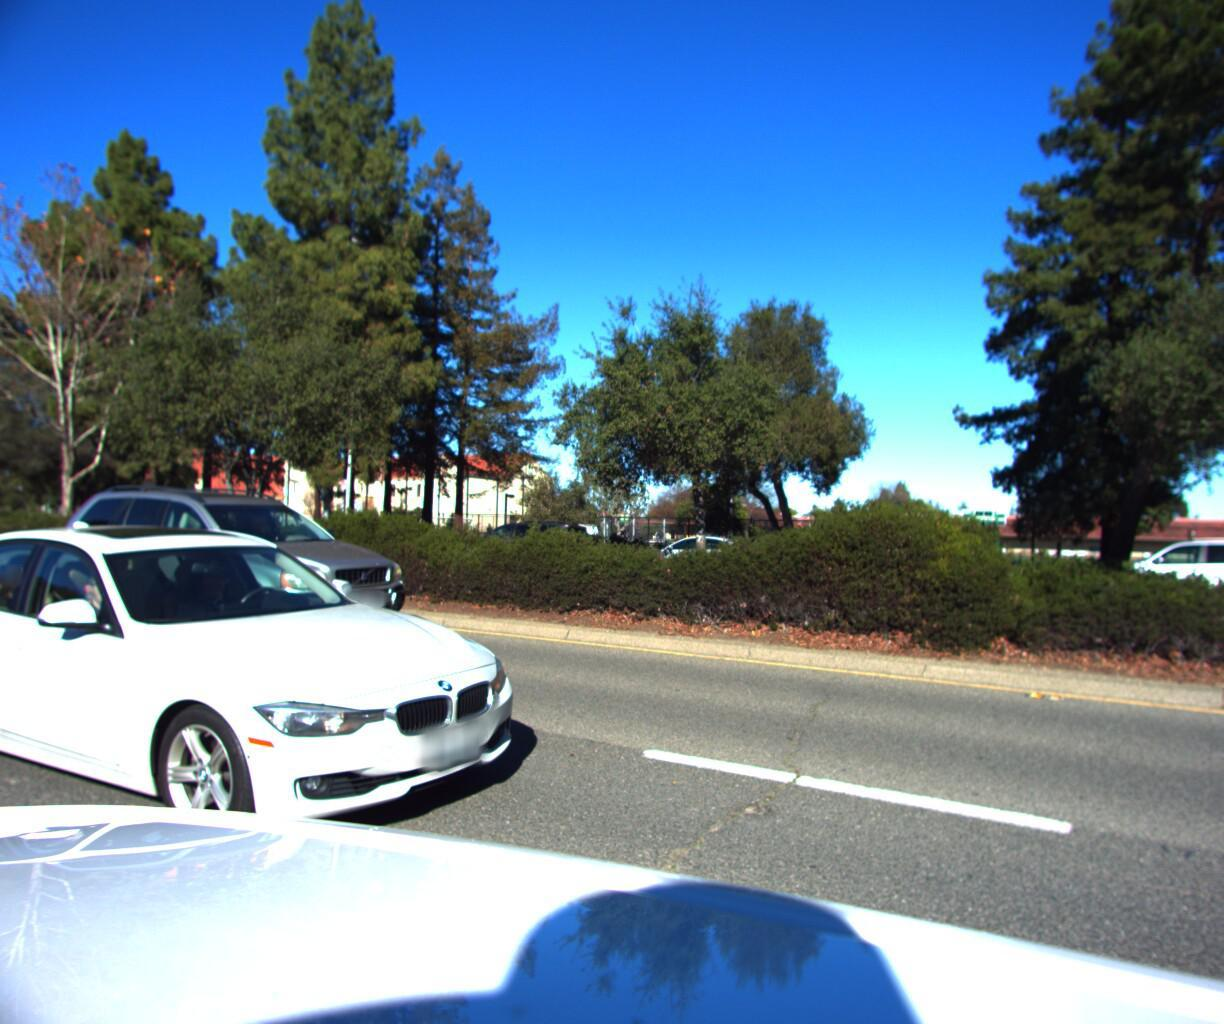car: (0, 502, 554, 897), (37, 474, 434, 668), (1075, 527, 1224, 622), (625, 529, 783, 588), (462, 520, 602, 574)
